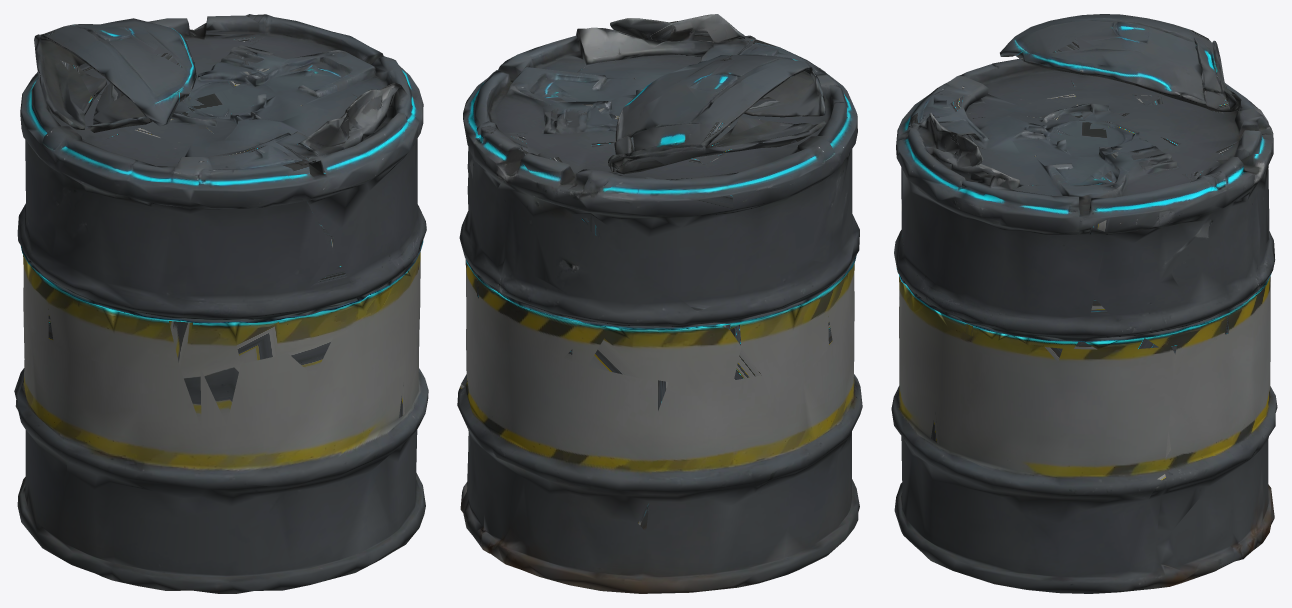
File: barrel.glb
The picture shows the model from 3 angles, left to right: view 1: azimuth 30°, elevation 25°; view 2: azimuth 150°, elevation 25°; view 3: azimuth 270°, elevation 25°; orthographic projection. The views are drawn at different scales.
Visible parts, largest first — view 1: tripo_node_3526355e-e2fa-43ba-bbdc-d89ff953dc8f; view 2: tripo_node_3526355e-e2fa-43ba-bbdc-d89ff953dc8f; view 3: tripo_node_3526355e-e2fa-43ba-bbdc-d89ff953dc8f.
Boxes of the visible parts, left/top/right/bottom form: tripo_node_3526355e-e2fa-43ba-bbdc-d89ff953dc8f: left=14, top=14, right=428, bottom=593; tripo_node_3526355e-e2fa-43ba-bbdc-d89ff953dc8f: left=457, top=14, right=862, bottom=593; tripo_node_3526355e-e2fa-43ba-bbdc-d89ff953dc8f: left=891, top=14, right=1277, bottom=593.
Size of the model in its own units: 0.7732 by 0.999 by 0.7706.
1 material, 1 textured.
